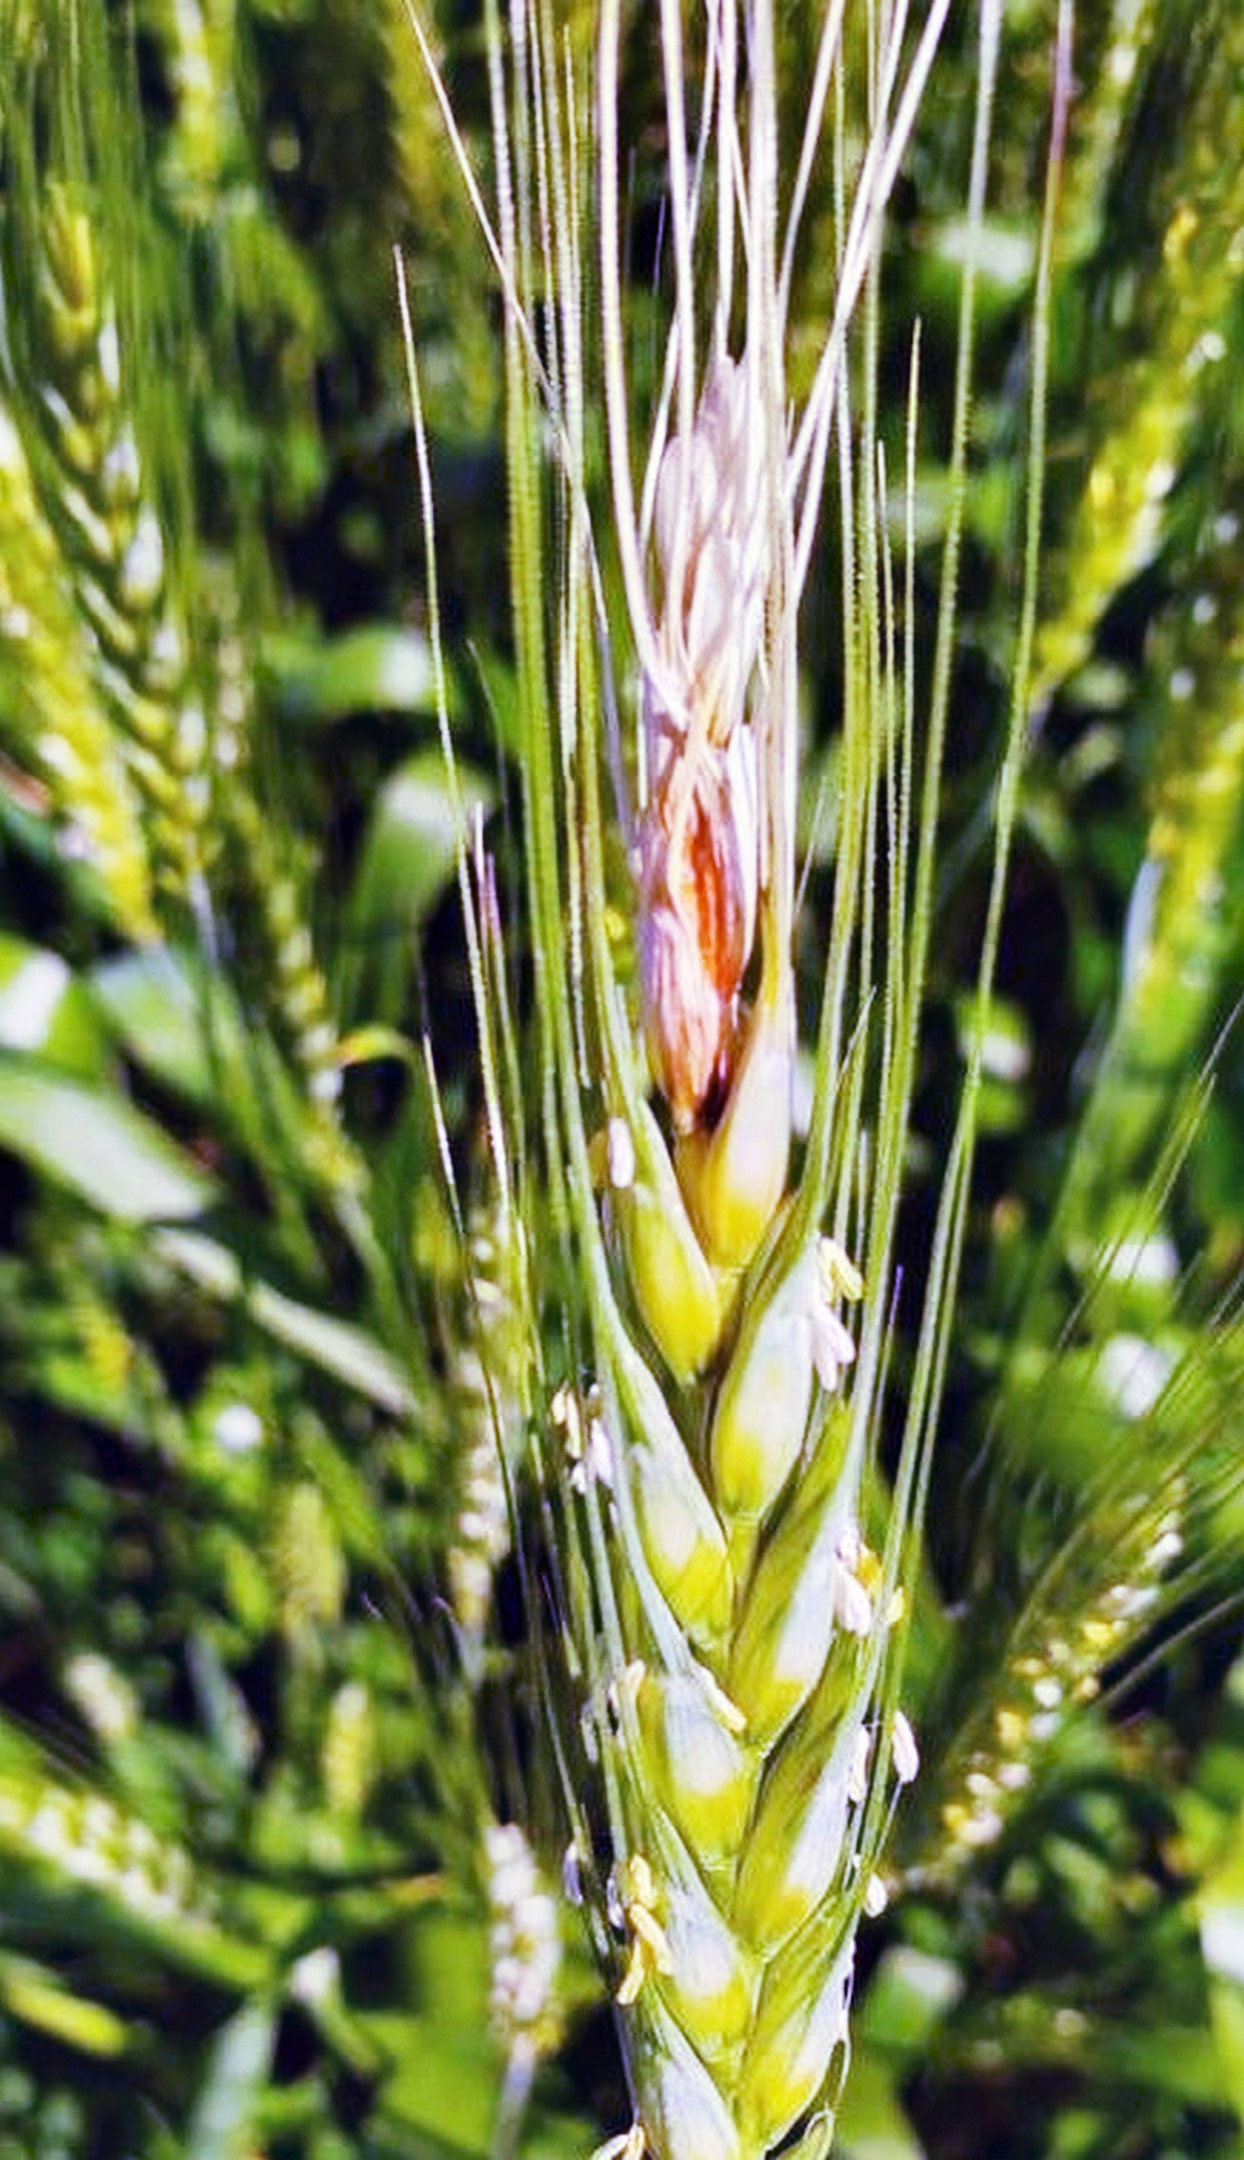Wheat scab: (480, 404, 937, 2133)
